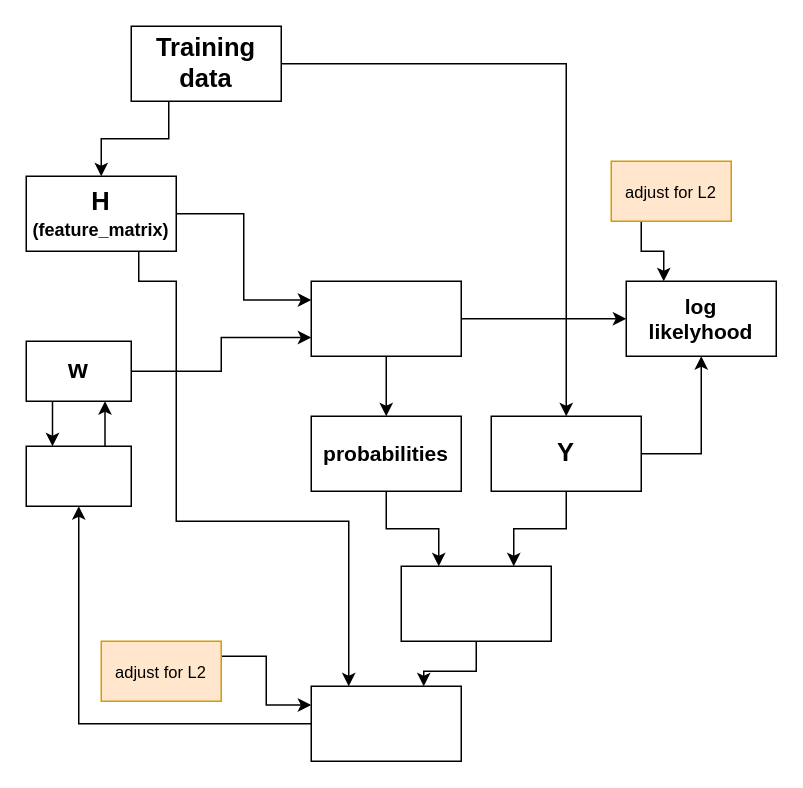
The diagram is 803 pixels wide and 788 high, and some of its shapes have lost their labels. Here are the shapes that lost their labels. From the top down, the box of each, then its label:
(310, 280, 461, 356): score_matrix
(25, 445, 131, 506): w_upd
(400, 565, 551, 641): error
(310, 685, 461, 761): gradient
